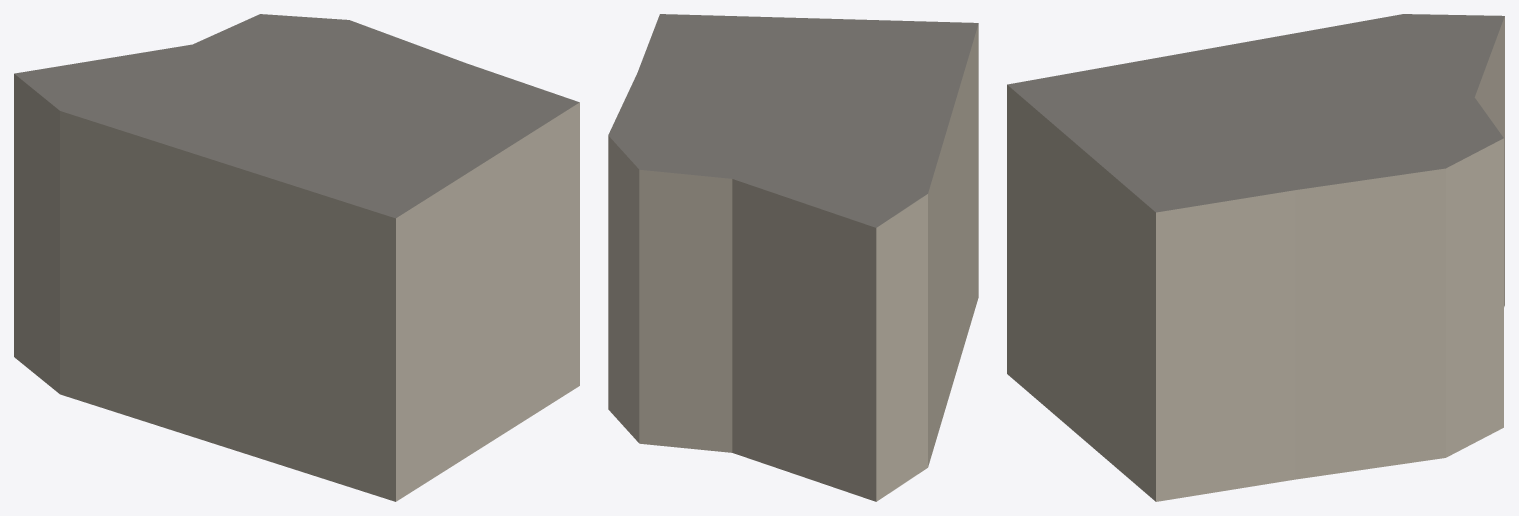
The picture shows the model from 3 angles, left to right: view 1: azimuth 30°, elevation 25°; view 2: azimuth 150°, elevation 25°; view 3: azimuth 270°, elevation 25°; orthographic projection. The views are drawn at different scales.
Parts seen in each view (by area): view 1: HP-w414733198; view 2: HP-w414733198; view 3: HP-w414733198.
Part boxes in pixels (x1,y1,x2,y2): HP-w414733198: (14, 14, 579, 501); HP-w414733198: (608, 14, 978, 501); HP-w414733198: (1007, 14, 1504, 501).
Size of the model in its own units: 22.07 by 15 by 23.38.
